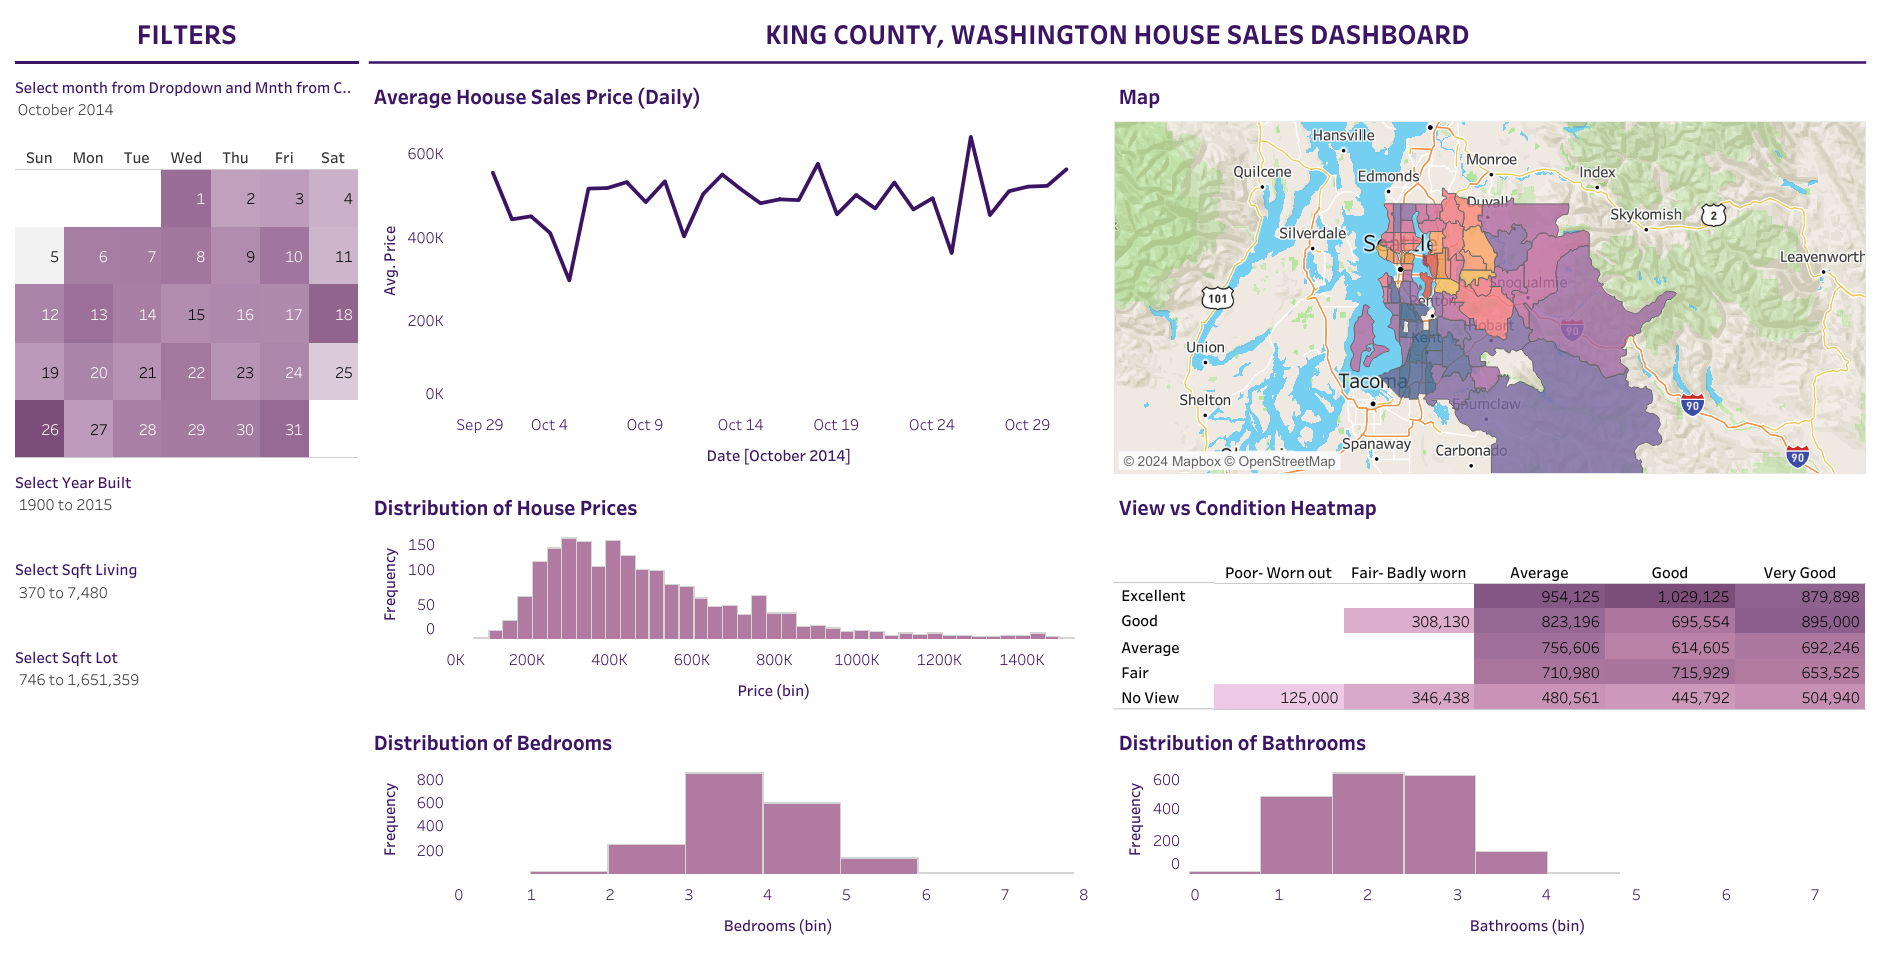

This screenshot's page, from the dashboard's own definition file:
{"tool":"tableau","page":{"name":"MAIN","canvas":[1000,1000],"units":"permille","ordinal":0},"visuals":[{"type":"text","box":[4.7,8.8,188.1,49.4]},{"type":"text","box":[192.7,8.8,802.6,49.4]},{"type":"blank","box":[4.7,58.2,188.1,11]},{"type":"blank","box":[192.7,58.2,802.6,11]},{"type":"filter","title":"Calender","param":"[federated.0nvbqwm09f4afb15p2di212doyvu].[my:date:ok]","box":[4.7,69.2,188.1,67]},{"type":"worksheet","title":"Line Chart","mark":"Automatic","rows":["price"],"cols":["date"],"box":[192.7,69.2,396.6,430.9]},{"type":"worksheet","title":"Map","mark":"Automatic","box":[589.3,69.2,406,430.9]},{"type":"worksheet","title":"Calender","mark":"Square","rows":["date"],"cols":["date"],"box":[4.7,136.1,188.1,285.4]},{"type":"filter","title":"Calender","param":"[federated.0nvbqwm09f4afb15p2di212doyvu].[none:yr_built:qk]","box":[4.7,421.5,188.1,60.4]},{"type":"filter","title":"Calender","param":"[federated.0nvbqwm09f4afb15p2di212doyvu].[none:sqft_living:qk]","box":[4.7,481.9,188.1,60.4]},{"type":"worksheet","title":"Histogram - House Prices","mark":"Automatic","rows":["price"],"cols":["Price (bin)"],"box":[192.7,500,396.6,245.6]},{"type":"worksheet","title":"Heatmap","mark":"Square","rows":["view"],"cols":["condition"],"box":[589.3,500,406,245.6]},{"type":"filter","title":"Calender","param":"[federated.0nvbqwm09f4afb15p2di212doyvu].[none:sqft_lot:qk]","box":[4.7,542.2,188.1,60.4]},{"type":"worksheet","title":"Histogram - Bedrooms","mark":"Automatic","rows":["bedrooms"],"cols":["Bedrooms (bin)"],"box":[192.7,745.6,396.6,245.6]},{"type":"worksheet","title":"Histogram - Bathrooms","mark":"Automatic","rows":["bathrooms"],"cols":["Bathrooms (bin)"],"box":[589.3,745.6,406,245.6]}]}

Visuals, with their boxes on the dashboard's canvas, which has no fixed pixel size, in thousandths of its width and height (x1, y1, x2, y2). These are canvas units, not pixel positions in the 1880x959 screenshot, which may show the page scaled, cropped or inside an application window:
text: <region>5, 9, 193, 58</region>
text: <region>193, 9, 995, 58</region>
blank: <region>5, 58, 193, 69</region>
blank: <region>193, 58, 995, 69</region>
"Calender" filter: <region>5, 69, 193, 136</region>
"Line Chart" worksheet: <region>193, 69, 589, 500</region>
"Map" worksheet: <region>589, 69, 995, 500</region>
"Calender" worksheet (Square marks): <region>5, 136, 193, 422</region>
"Calender" filter: <region>5, 422, 193, 482</region>
"Calender" filter: <region>5, 482, 193, 542</region>
"Histogram - House Prices" worksheet: <region>193, 500, 589, 746</region>
"Heatmap" worksheet (Square marks): <region>589, 500, 995, 746</region>
"Calender" filter: <region>5, 542, 193, 603</region>
"Histogram - Bedrooms" worksheet: <region>193, 746, 589, 991</region>
"Histogram - Bathrooms" worksheet: <region>589, 746, 995, 991</region>
